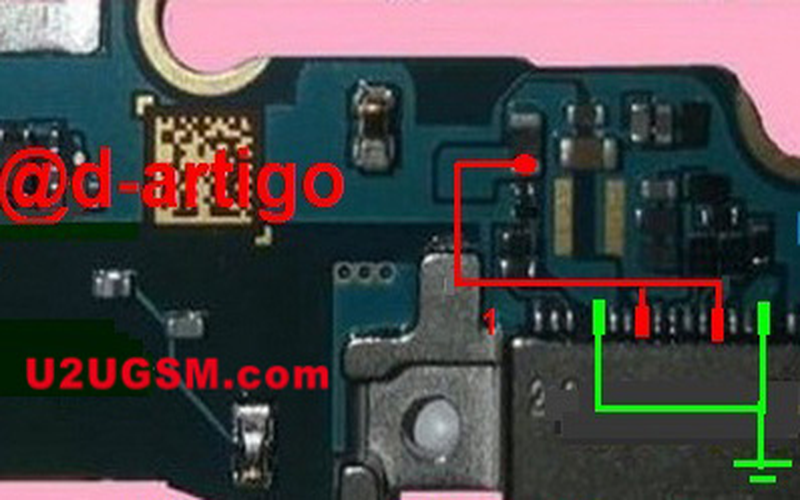Cirtuit-Board: (346, 30, 800, 500)
